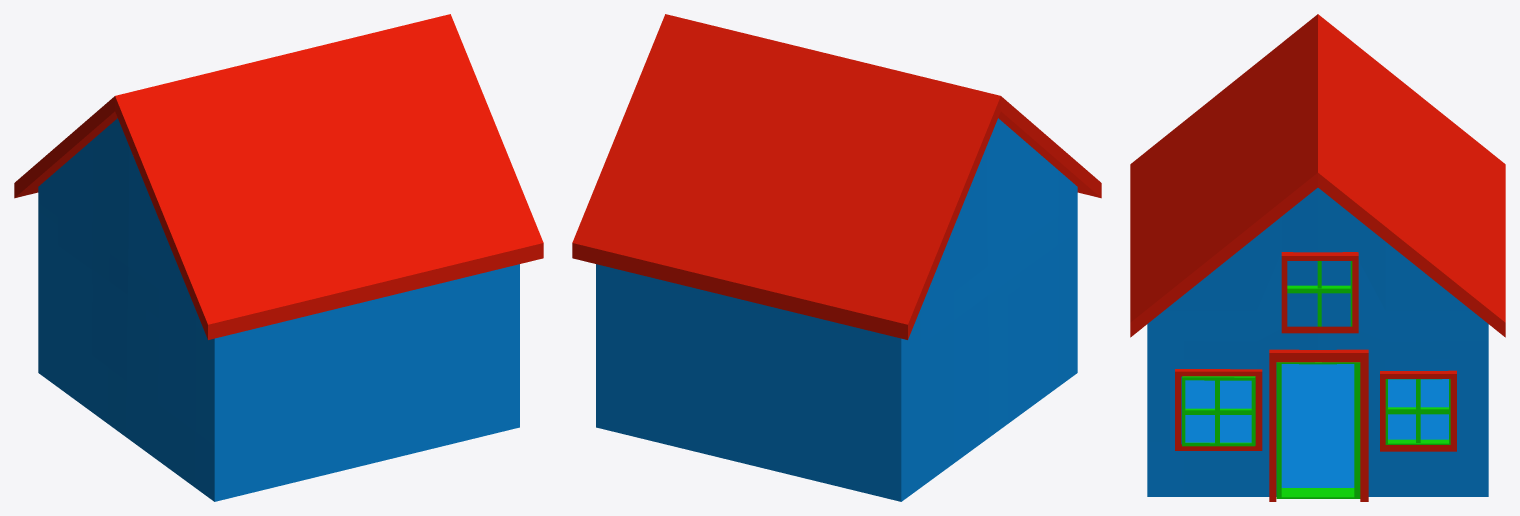
File: house.fbx
The picture shows the model from 3 angles, left to right: view 1: azimuth 30°, elevation 25°; view 2: azimuth 150°, elevation 25°; view 3: azimuth 270°, elevation 25°; orthographic projection. The views are drawn at different scales.
Parts seen in each view (by area): view 1: Cube.001, Cube; view 2: Cube.001, Cube; view 3: Cube, Cube.001, Cube.014, Cube.002, Cube.012, Cube.011, Cube.013, Cube.004, Cube.003, Cube.009, Cube.006.
Boxes of the visible parts, bbox=[...] form: Cube.001: bbox=[14, 14, 543, 339]; Cube: bbox=[38, 118, 519, 501]; Cube.001: bbox=[572, 14, 1101, 339]; Cube: bbox=[596, 118, 1077, 501]; Cube: bbox=[1147, 188, 1488, 496]; Cube.001: bbox=[1130, 14, 1505, 337]; Cube.014: bbox=[1269, 349, 1368, 501]; Cube.002: bbox=[1276, 362, 1360, 498]; Cube.012: bbox=[1281, 252, 1358, 333]; Cube.011: bbox=[1175, 369, 1262, 450]; Cube.013: bbox=[1380, 370, 1456, 451]; Cube.004: bbox=[1182, 376, 1255, 446]; Cube.003: bbox=[1385, 379, 1450, 444]; Cube.009: bbox=[1287, 285, 1350, 293]; Cube.006: bbox=[1388, 407, 1448, 414].
Size of the model in its own units: 1112 by 1082 by 1099.
